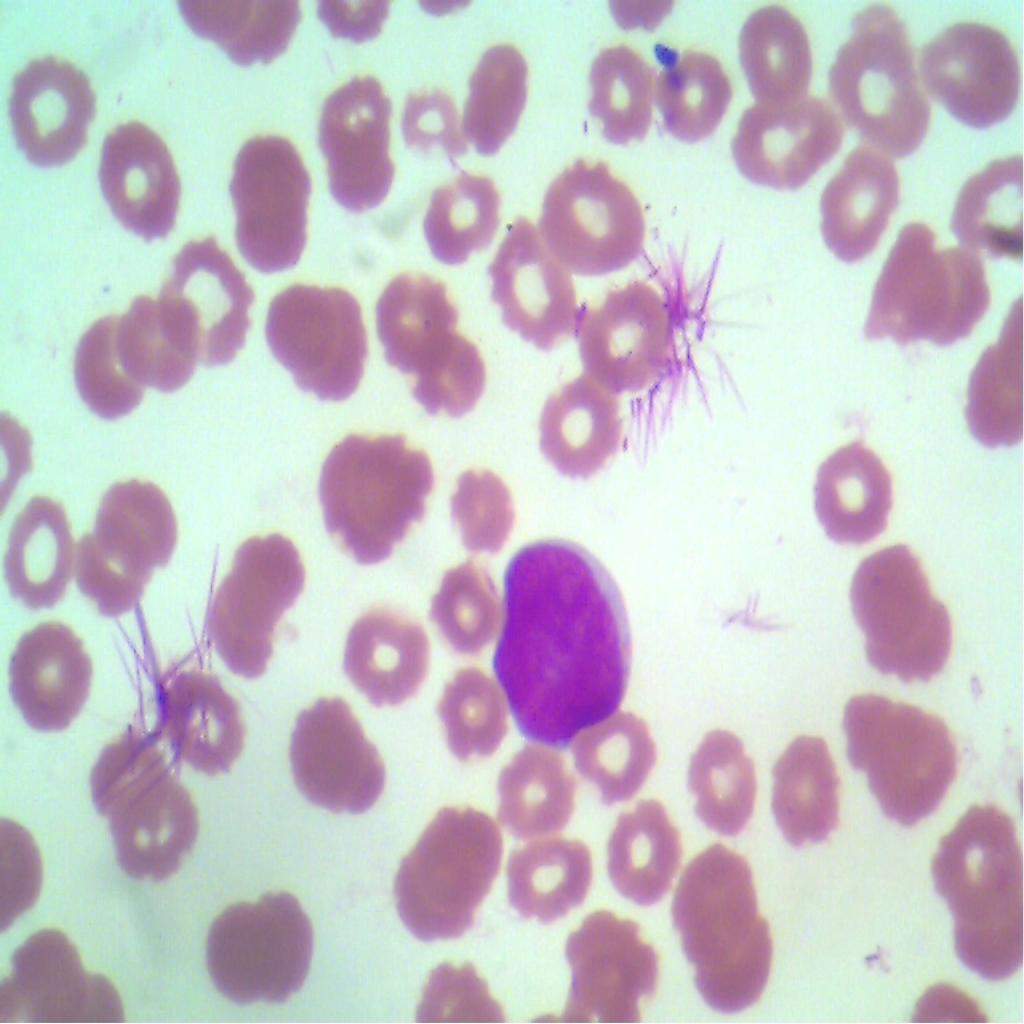Eritrosit: (316, 410, 431, 572), (391, 801, 508, 942), (533, 155, 664, 271), (286, 695, 389, 832), (578, 269, 679, 401), (829, 28, 933, 154), (156, 230, 254, 360), (4, 40, 98, 175), (483, 205, 574, 341), (566, 901, 666, 1023), (93, 124, 191, 247), (764, 708, 846, 854), (154, 657, 250, 779), (924, 798, 1023, 914), (729, 84, 839, 188), (268, 280, 368, 394), (494, 817, 599, 924), (810, 130, 896, 260), (806, 429, 898, 550), (3, 622, 94, 744), (931, 139, 1023, 258), (926, 17, 1024, 128), (866, 204, 952, 330), (344, 589, 434, 707), (871, 718, 964, 831), (488, 729, 584, 835), (116, 772, 204, 886), (536, 372, 630, 477), (678, 715, 758, 838), (695, 909, 782, 1021), (2, 491, 82, 612), (660, 834, 746, 945), (944, 867, 1023, 986), (240, 884, 318, 1004), (118, 285, 206, 391), (566, 702, 659, 802), (68, 301, 143, 424), (201, 568, 279, 684), (609, 778, 678, 906), (653, 47, 736, 151), (423, 169, 506, 272), (94, 477, 182, 574), (843, 539, 926, 641), (373, 269, 456, 370), (90, 725, 166, 832), (13, 915, 88, 1023), (309, 65, 390, 164), (579, 42, 655, 144), (431, 558, 508, 658), (838, 682, 924, 771), (224, 528, 306, 621), (76, 524, 150, 627), (226, 127, 308, 219), (868, 598, 958, 678), (235, 184, 309, 280), (206, 894, 272, 1000), (416, 321, 490, 414), (471, 37, 529, 155), (396, 74, 470, 165), (438, 672, 508, 765), (734, 5, 808, 91), (966, 337, 1023, 445), (451, 458, 516, 552), (918, 257, 986, 340)
Limfoblast: (482, 532, 628, 738)
Platelet: (652, 32, 686, 81)
